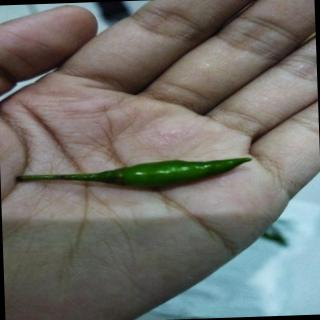Cabai Hijau: (9, 152, 258, 201)
